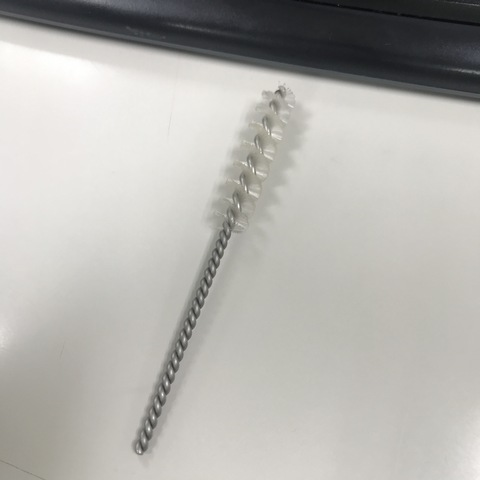Twist Brush-B: (129, 85, 293, 453)
